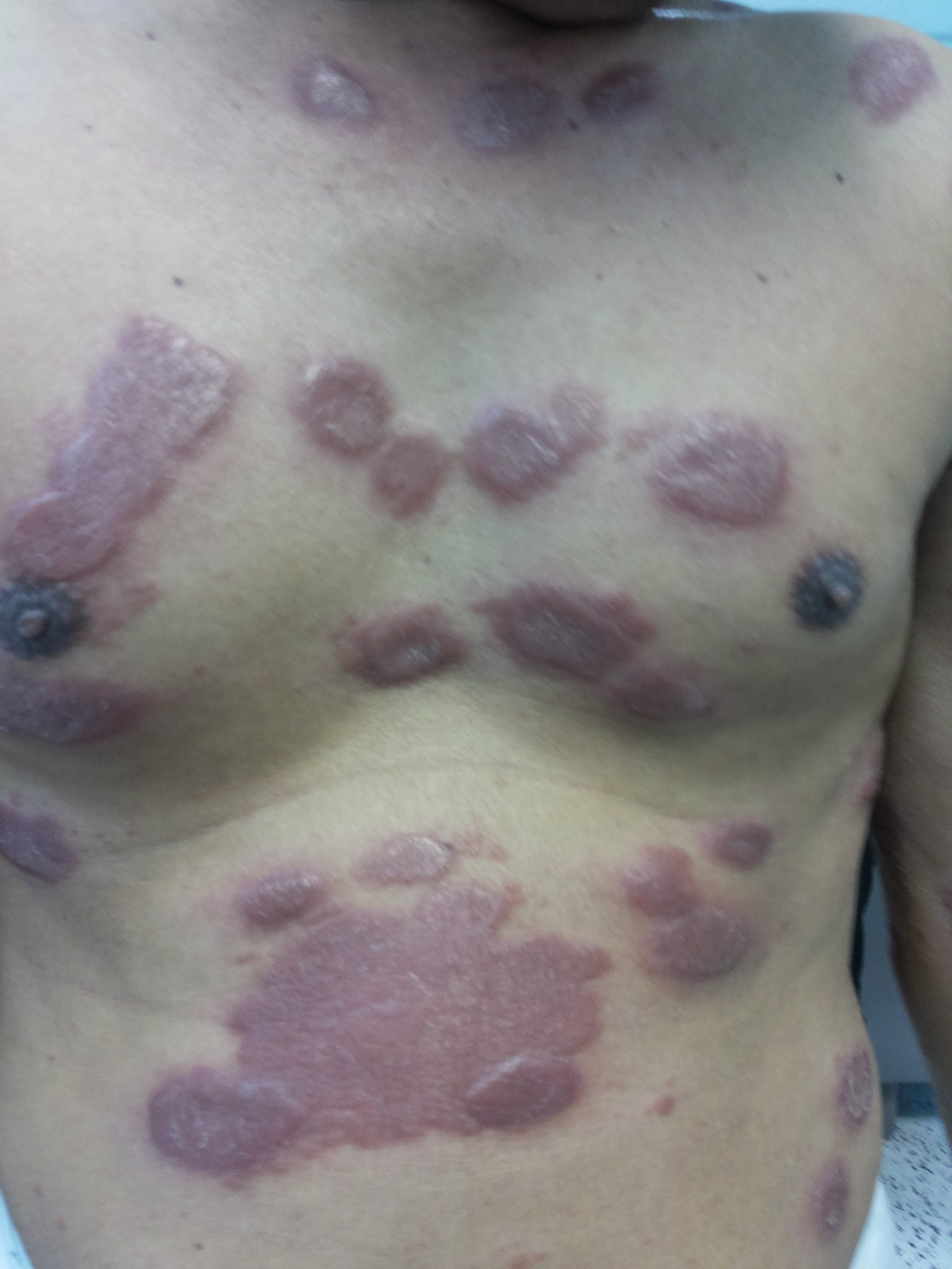Leprosy: (141, 804, 619, 1203), (0, 304, 249, 590), (461, 565, 725, 740), (280, 349, 460, 535), (607, 808, 778, 996), (614, 390, 806, 543), (126, 1058, 323, 1203), (448, 379, 618, 520), (333, 576, 475, 706), (2, 657, 164, 763), (440, 59, 576, 177), (835, 28, 951, 143), (279, 56, 400, 151), (0, 788, 84, 898), (575, 51, 673, 139), (815, 1035, 885, 1135), (796, 1156, 865, 1250), (642, 1088, 686, 1128)
